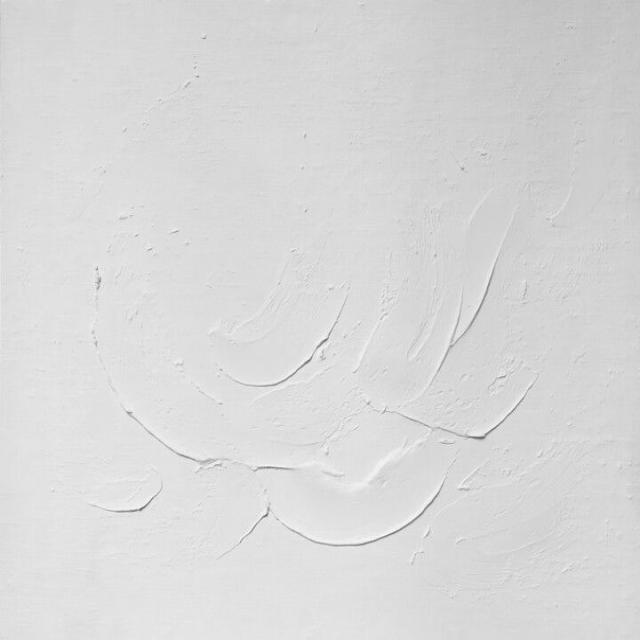trowels marks: (72, 170, 640, 612)
